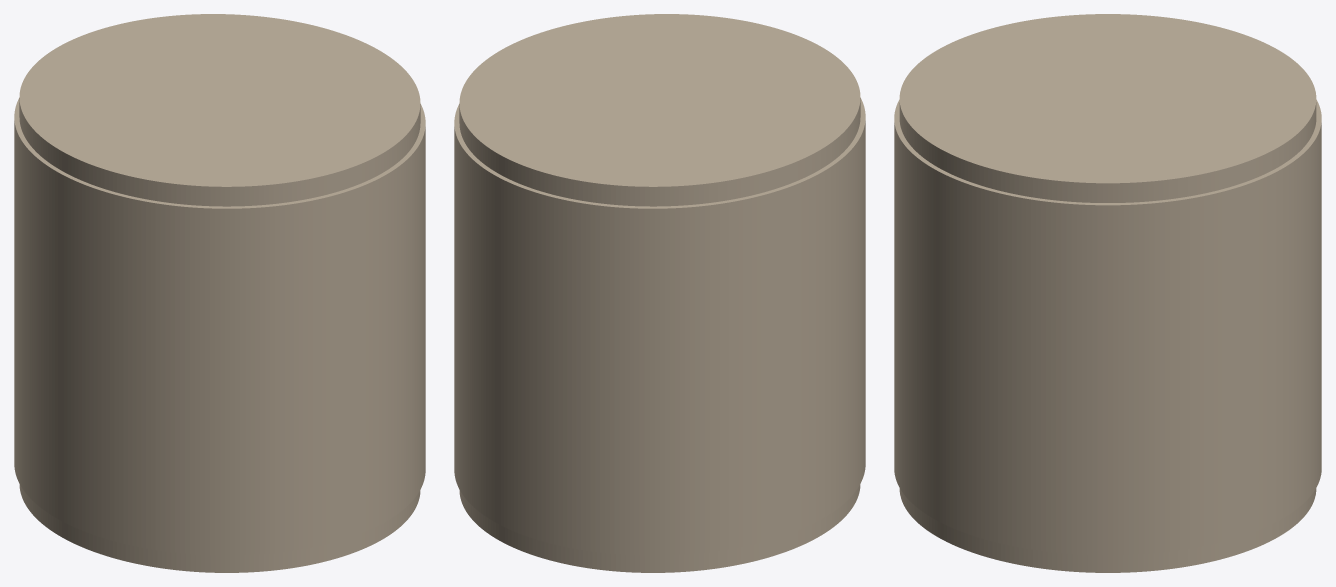
Rendered from 3dcodebench_Can_seed0.glb.
3 renders of one model, left to right at view 1: azimuth 30°, elevation 25°; view 2: azimuth 150°, elevation 25°; view 3: azimuth 270°, elevation 25°, orthographic.
Parts seen in each view (by area): view 1: object; view 2: object; view 3: object.
Part boxes in pixels (x1,y1,x2,y2): object: (14,14,425,572); object: (454,14,865,572); object: (894,14,1321,572).
Size of the model in its own units: 3.34 by 3.5 by 3.48.
